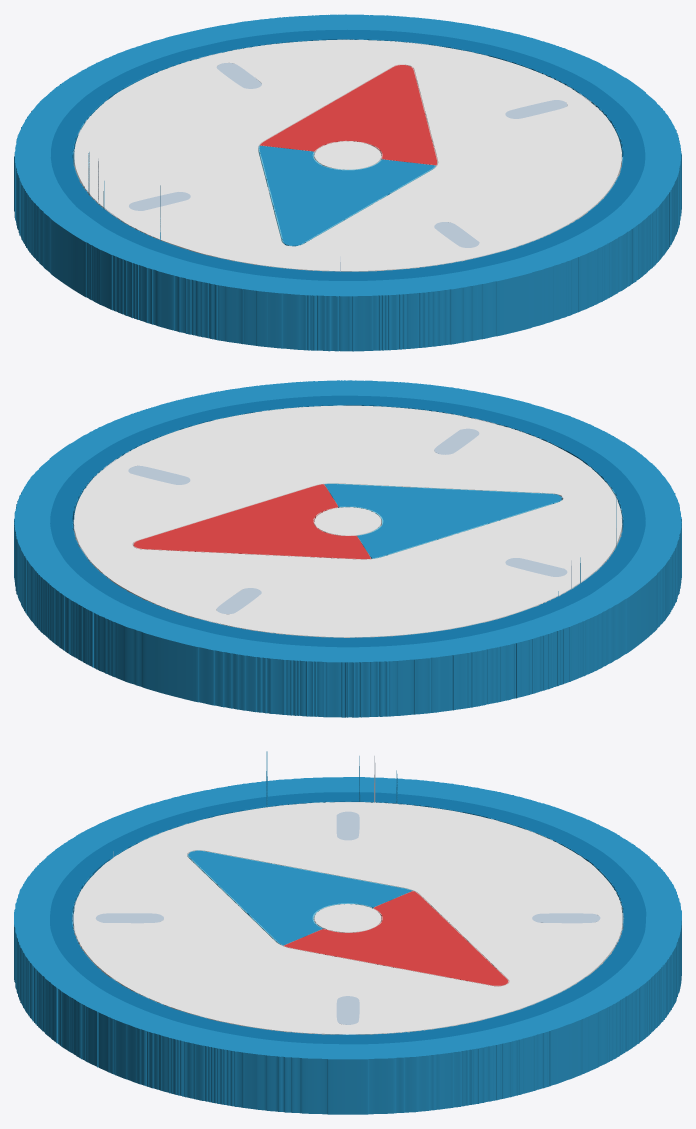
The model's file is compass.fbx.
The picture shows the model from 3 angles, top to bottom: view 1: azimuth 30°, elevation 25°; view 2: azimuth 150°, elevation 25°; view 3: azimuth 270°, elevation 25°; orthographic projection.
Parts seen in each view (by area): view 1: path0; view 2: path0; view 3: path0.
Boxes of the visible parts, x1,y1,x2,y2 form: path0: [14, 14, 681, 351]; path0: [14, 380, 681, 717]; path0: [14, 751, 681, 1114].
Bounding box in the file's own units: 10.95 × 2 × 10.94.
